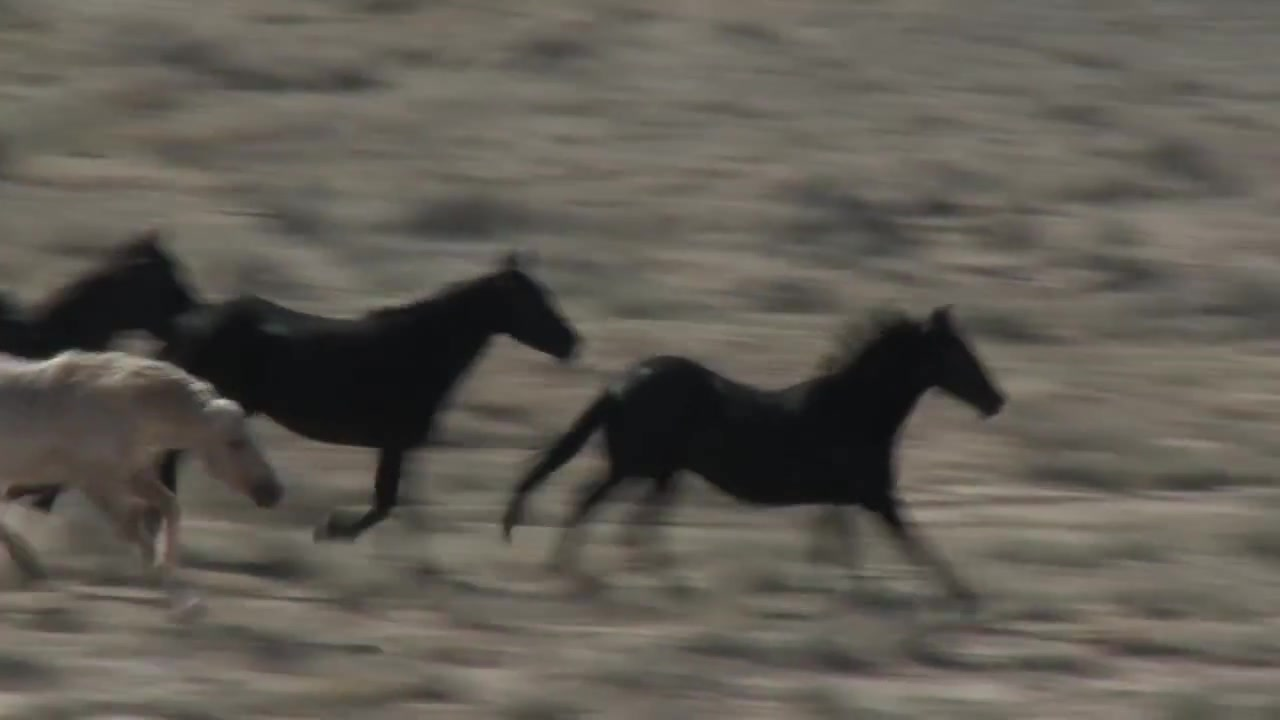horse: (495, 304, 1011, 607), (168, 252, 579, 545), (1, 352, 288, 622), (1, 226, 216, 361)
